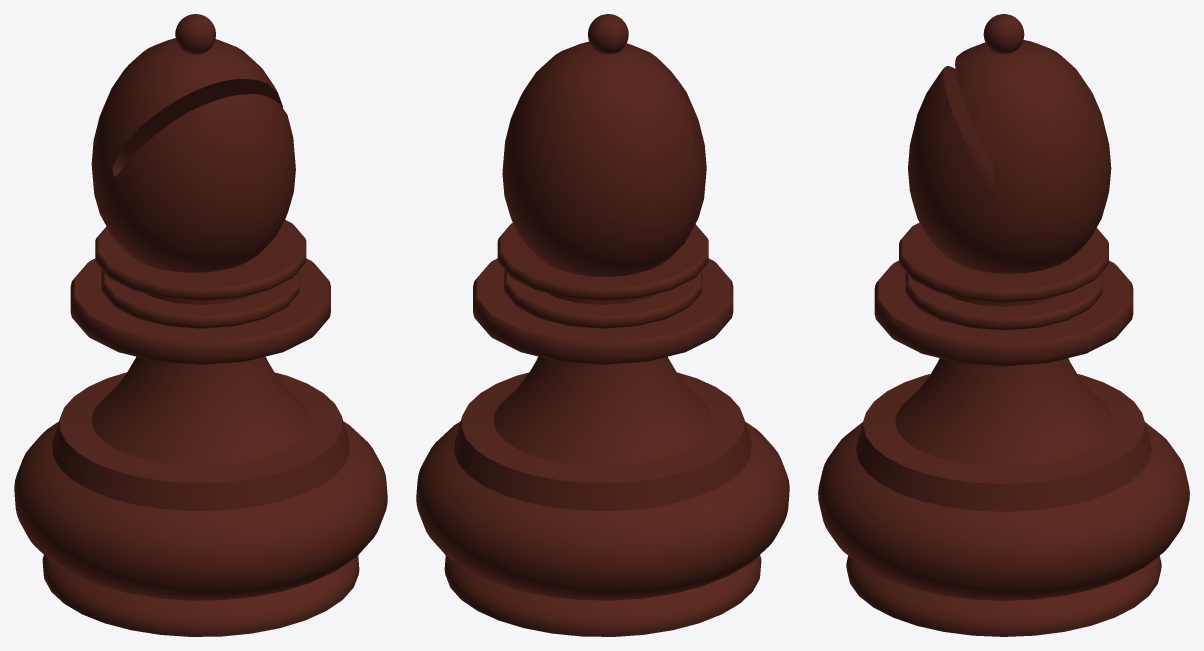
The model's file is BlackBishop.FBX.
3 renders of one model, left to right at view 1: azimuth 30°, elevation 25°; view 2: azimuth 150°, elevation 25°; view 3: azimuth 270°, elevation 25°, orthographic.
Parts seen in each view (by area): view 1: BishopB1; view 2: BishopB1; view 3: BishopB1.
Boxes of the visible parts, bbox=[...] form: BishopB1: bbox=[14, 14, 387, 636]; BishopB1: bbox=[416, 14, 789, 636]; BishopB1: bbox=[818, 14, 1189, 636].
Bounding box in the file's own units: 0.1823 × 0.1823 × 0.2988.
Materials: 1 (1 with a texture image).
